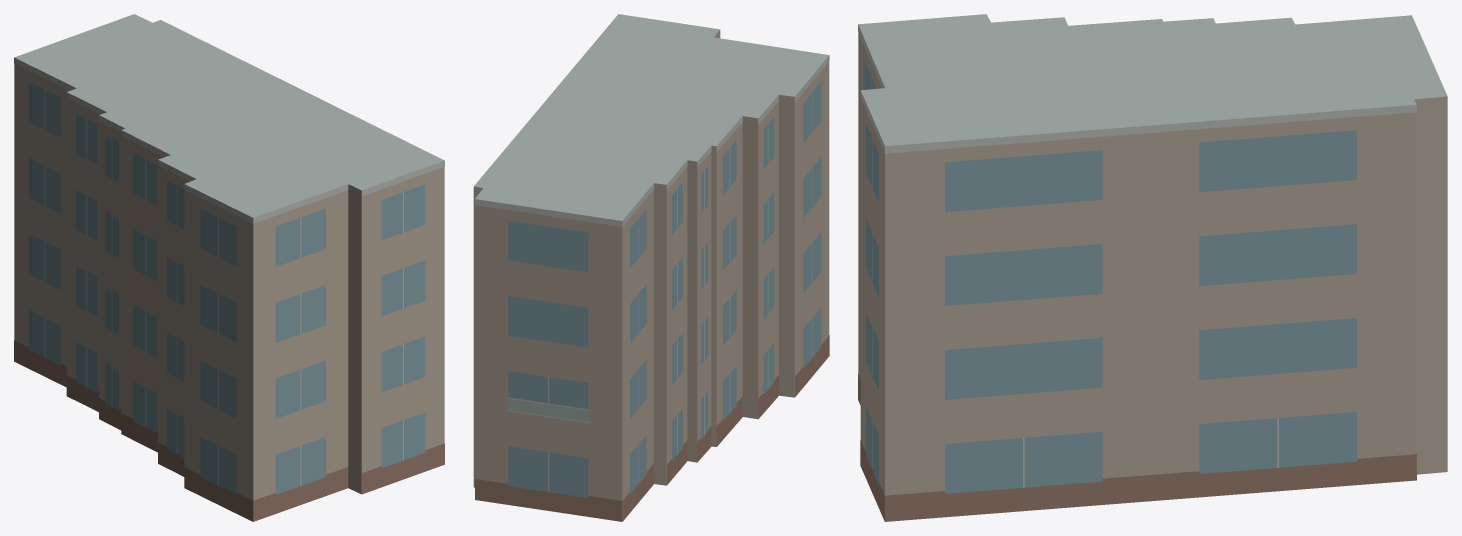
The model's file is survey-upis-32462865.glb.
The picture shows the model from 3 angles, left to right: view 1: azimuth 30°, elevation 25°; view 2: azimuth 150°, elevation 25°; view 3: azimuth 270°, elevation 25°; orthographic projection. The views are drawn at different scales.
Parts seen in each view (by area): view 1: survey-upis-32462865.tmp; view 2: survey-upis-32462865.tmp; view 3: survey-upis-32462865.tmp.
Boxes of the visible parts, x1=… form: survey-upis-32462865.tmp: x1=14, y1=14, x2=444, y2=521; survey-upis-32462865.tmp: x1=473, y1=14, x2=829, y2=521; survey-upis-32462865.tmp: x1=858, y1=14, x2=1447, y2=521.
Size of the model in its own units: 9.26 by 12.25 by 17.44.
